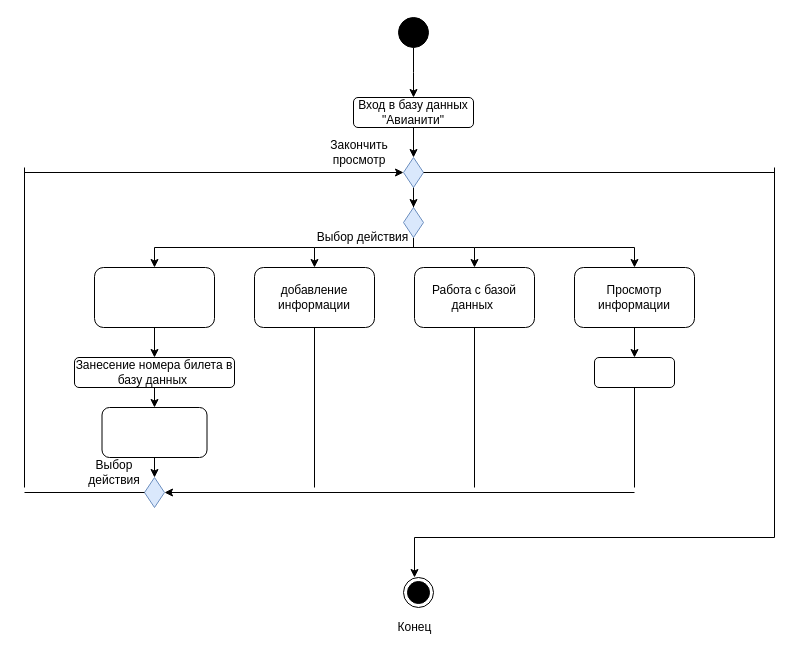
Some shapes in this 800 by 660 pixel diagram are drawn without their labels. Here are the shapes that lost their labels. From the top down, the centre of each, then its label:
At (x=154, y=297): "Поиск информации".
At (x=634, y=372): "Выбор фильтра".
At (x=154, y=432): "Выбор места, класса, стоимости билета".
